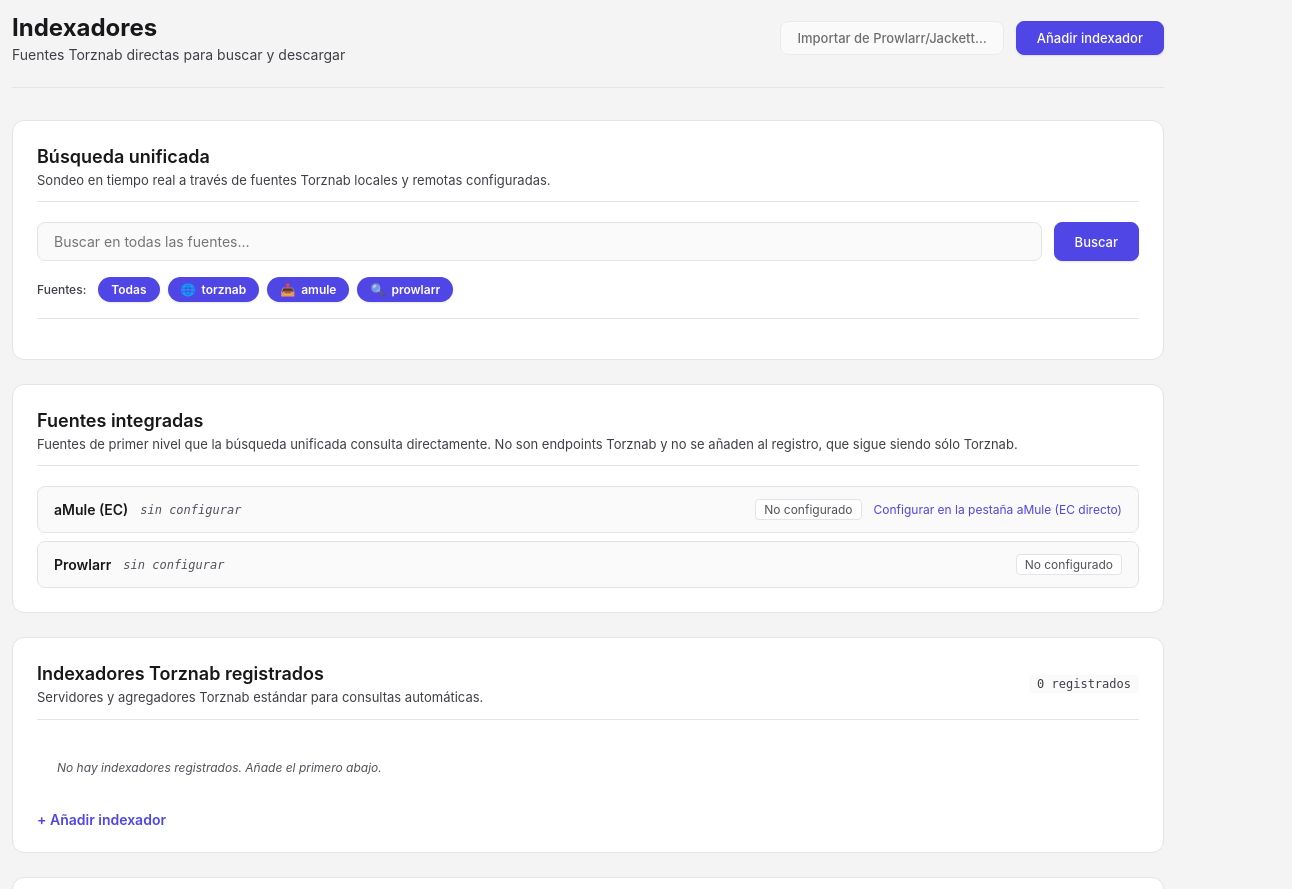
it: búsqueda unificada — estructura del diseño (config-1x1 T4/S2) › renders the design search field, «Buscar» and the source chips with counts
This screenshot has width=1292, height=889.
Expected: the button "Buscar" is shown, x1=1054 y1=222 x2=1139 y2=261
Expected: the element with class "indexadores-source-chips" is shown, x1=37 y1=277 x2=1139 y2=319
Type "matrix" into the field labelled "Buscar en todas las fuentes…" at (539, 242), box x1=37 y1=222 x2=1042 y2=261
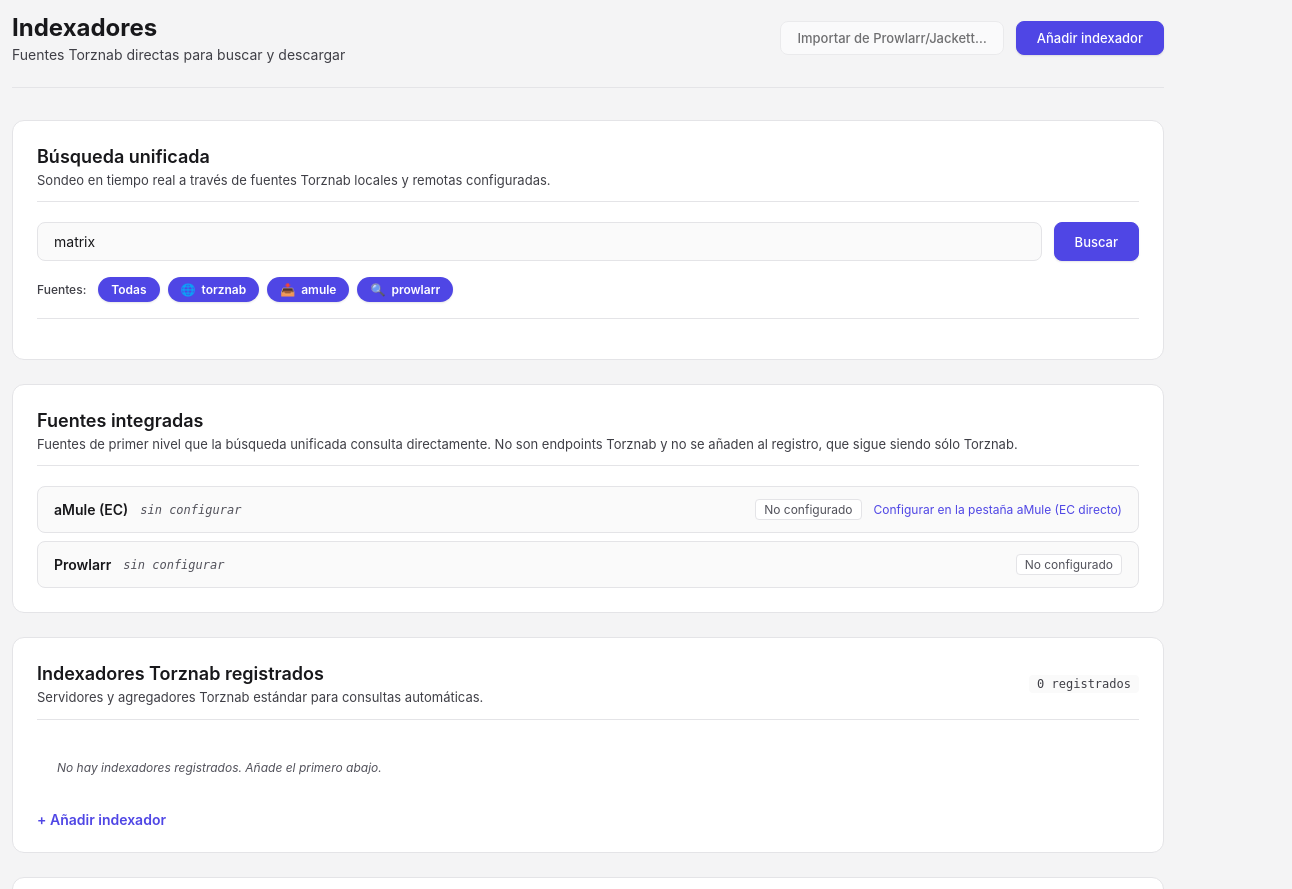
Click the button "Buscar" at (1096, 242), box x1=1054 y1=222 x2=1139 y2=261
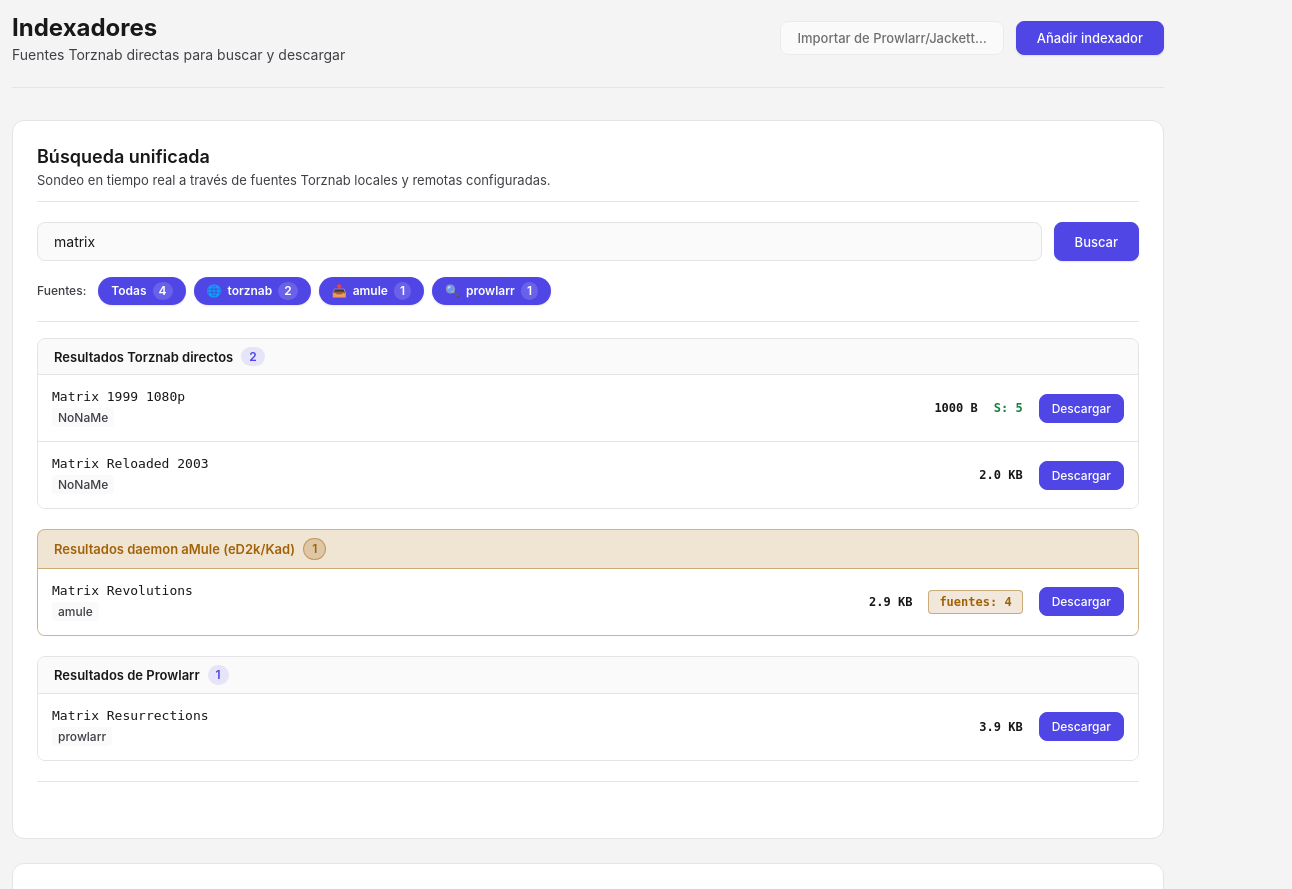
Result: the button "🌐 torznab 2" is shown at x1=194 y1=277 x2=311 y2=305
Result: the element with class "indexadores-search-statuses" is shown at x1=37 y1=781 x2=1139 y2=814
